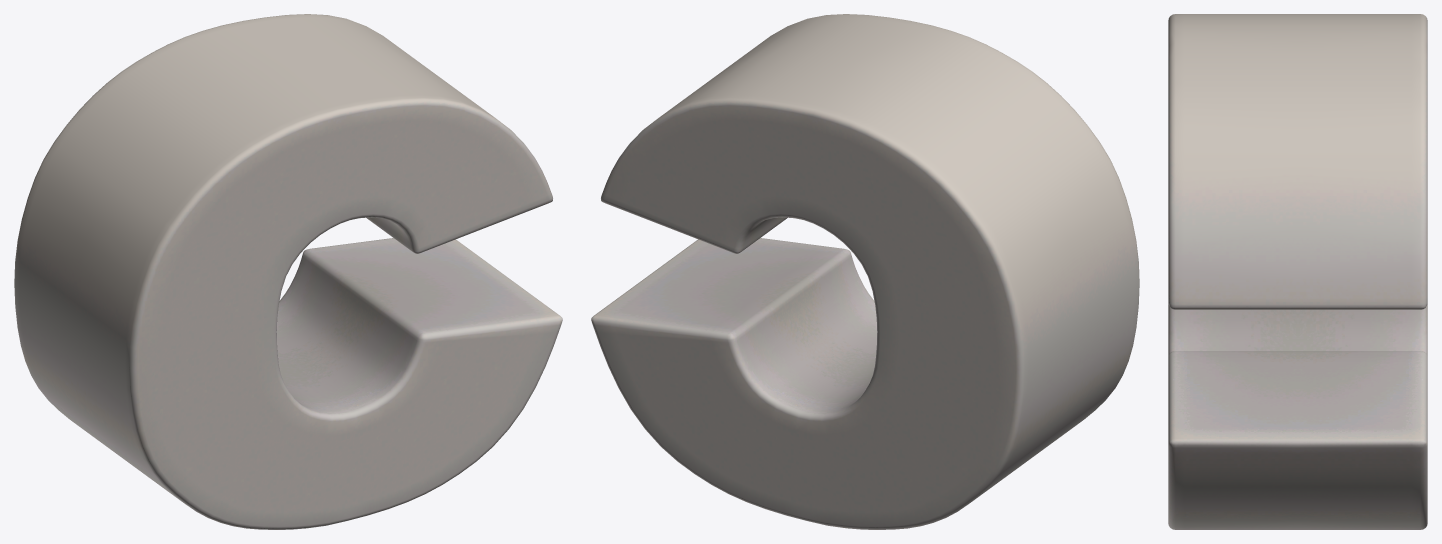
3 renders of one model, left to right at view 1: azimuth 30°, elevation 25°; view 2: azimuth 150°, elevation 25°; view 3: azimuth 270°, elevation 25°, orthographic. The views are drawn at different scales.
Visible parts, largest first — view 1: node_id30; view 2: node_id30; view 3: node_id30.
Part boxes in pixels (bbox=[...]): node_id30: bbox=[14, 14, 562, 529]; node_id30: bbox=[591, 14, 1139, 529]; node_id30: bbox=[1168, 14, 1427, 529].
Size of the model in its own units: 0.512 by 0.4673 by 0.2471.
1 material, 1 textured.
